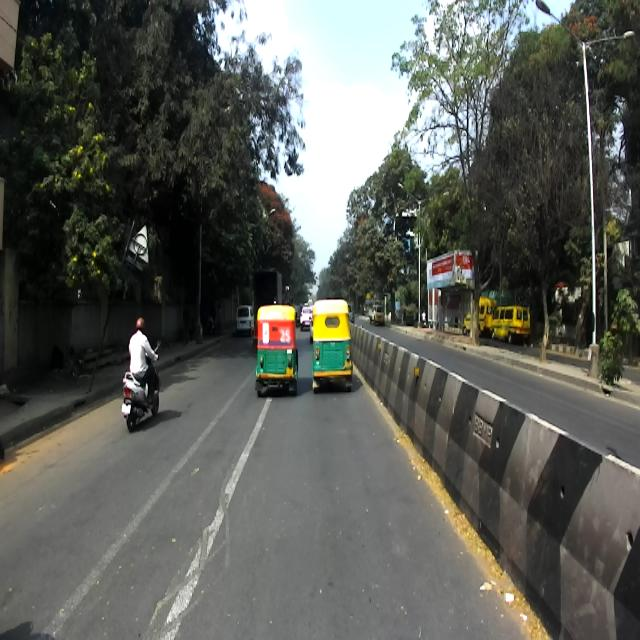auto ahead at: (312, 303, 356, 390), (254, 306, 298, 392)
motorcycle ahead at: (120, 363, 162, 433)
